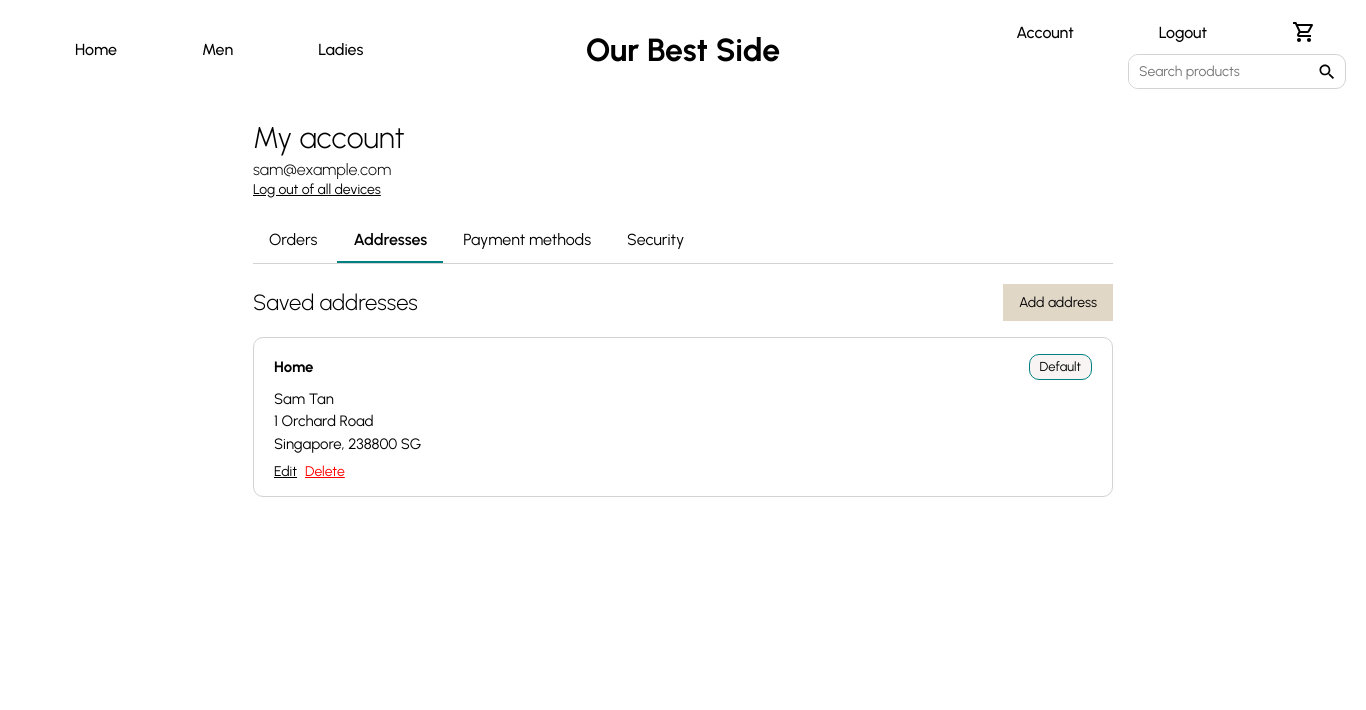
it: Account page › lists saved addresses and adds a new one
Expected: the text "Home" in the row of "Default" is shown, top-left (274, 358), bottom-right (314, 376)
Expected: the text "Default" is shown, top-left (1029, 354), bottom-right (1092, 380)
Click the button "Add address" at (1058,302), box top-left (1003, 284), bottom-right (1113, 321)
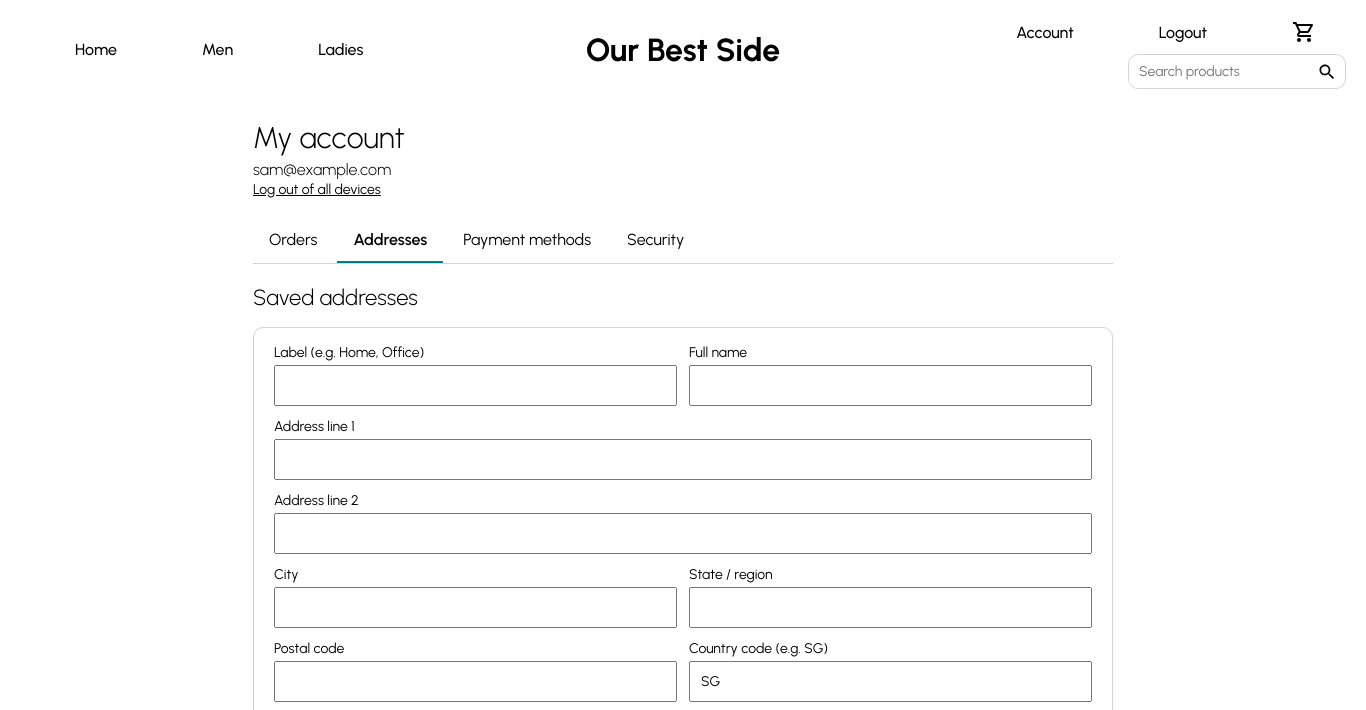
Type "Office" into the field labelled "Label (e.g. Home, Office)" at (476,386), box top-left (274, 365), bottom-right (677, 406)
Type "Sam Tan" into the field labelled "Full name" at (890,386), box top-left (689, 365), bottom-right (1092, 406)
Type "10 Anson Road" into the field labelled "Address line 1" at (683,460), box top-left (274, 439), bottom-right (1092, 480)
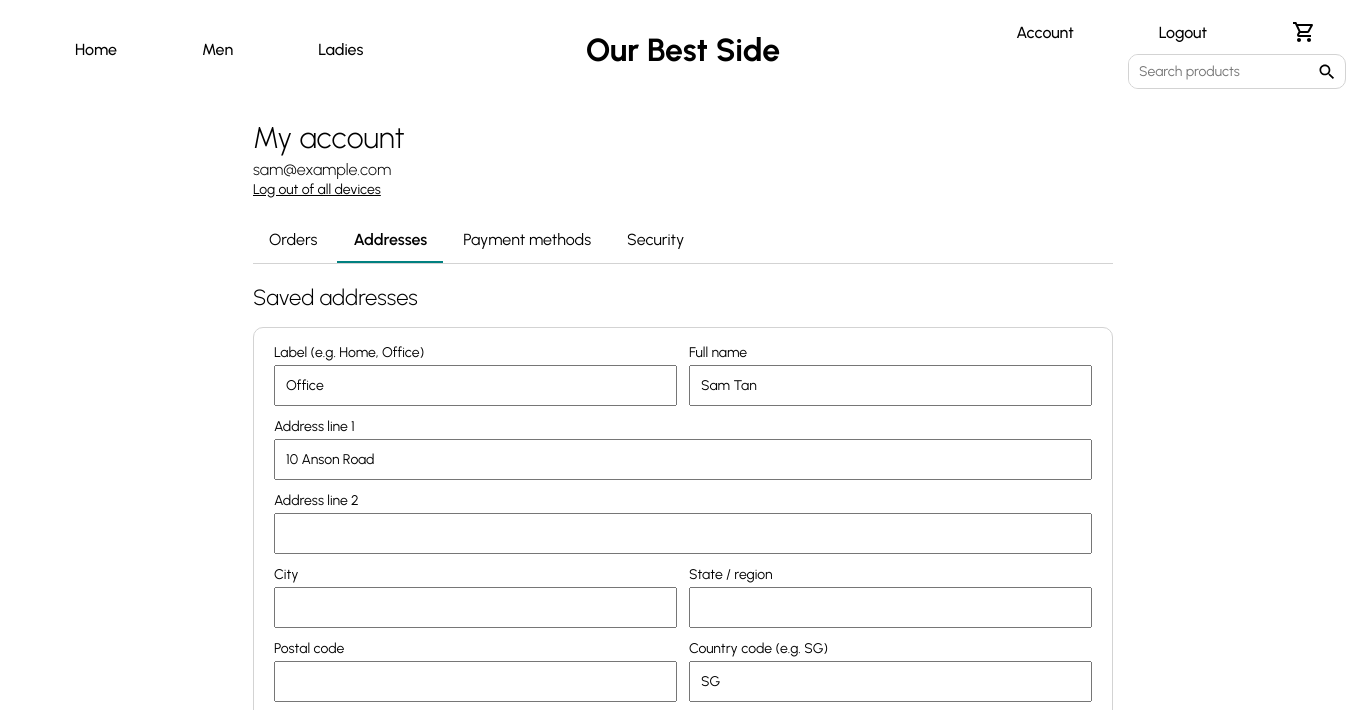
Type "Singapore" into the field labelled "City" at (476,608), box top-left (274, 587), bottom-right (677, 628)
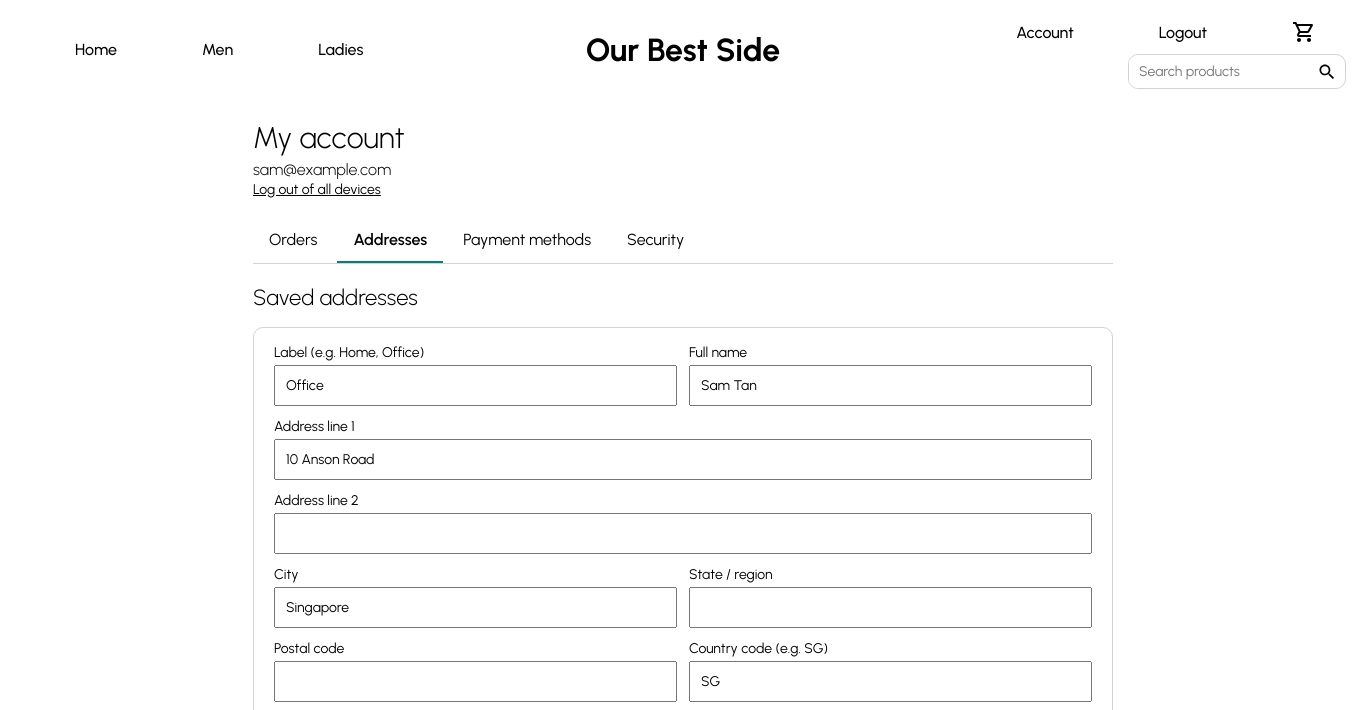
Type "079903" into the field labelled "Postal code" at (476,682), box top-left (274, 661), bottom-right (677, 702)
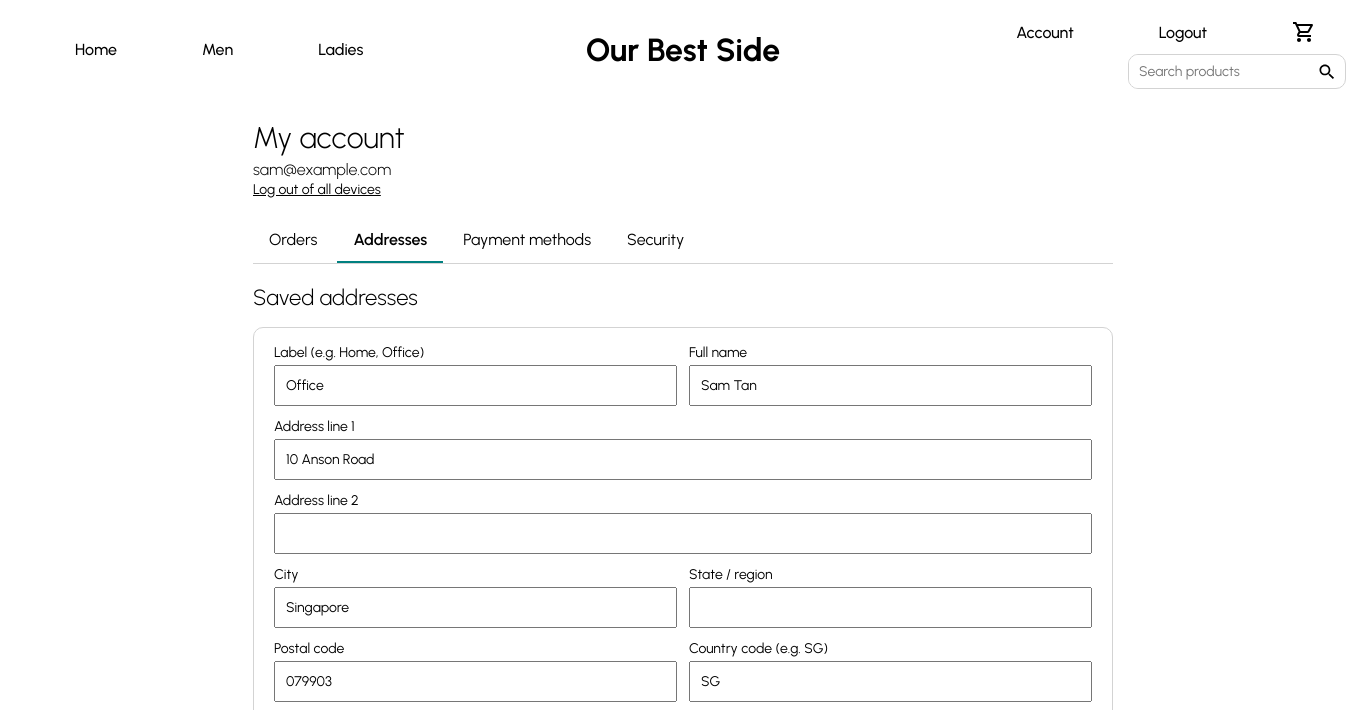
Replace the text in the field labelled "Country code (e.g. SG)" with "sg" at (890,682), box top-left (689, 661), bottom-right (1092, 702)
(page scrolled)
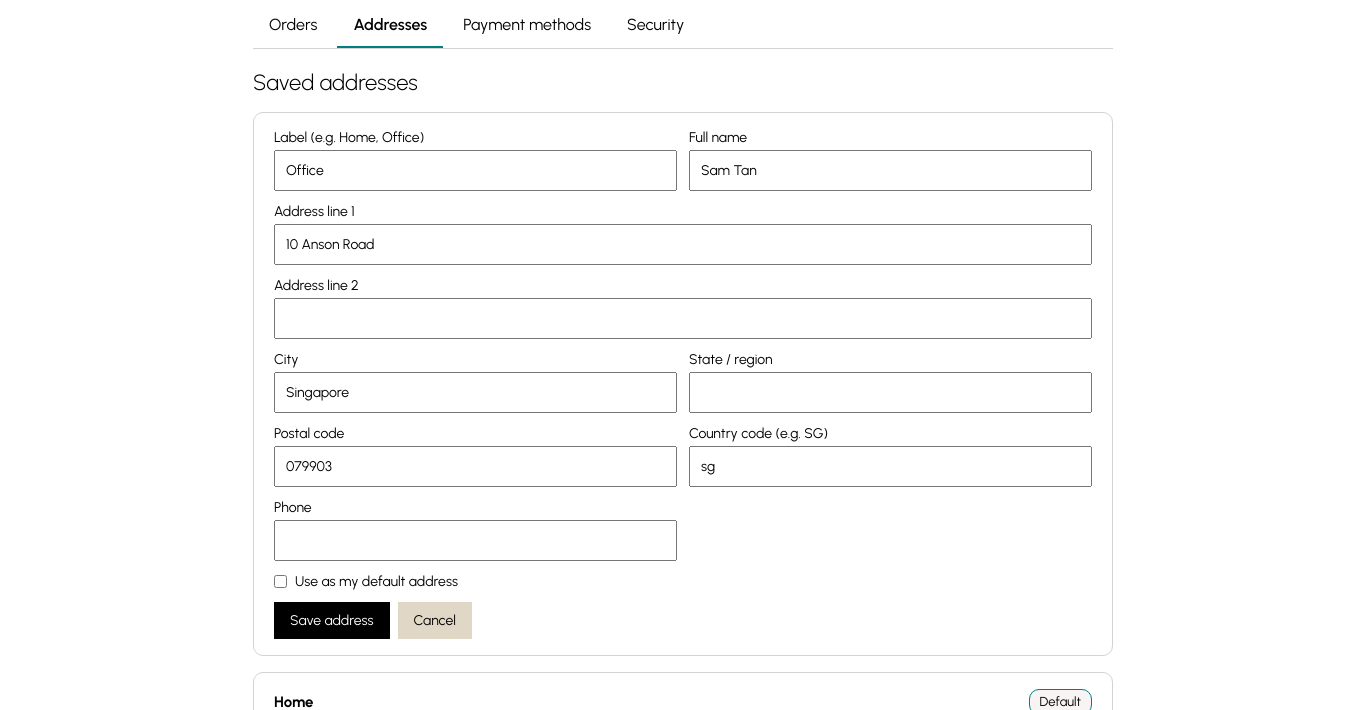
Submit the form named "Address form", box top-left (253, 112), bottom-right (1113, 656)
(page scrolled)
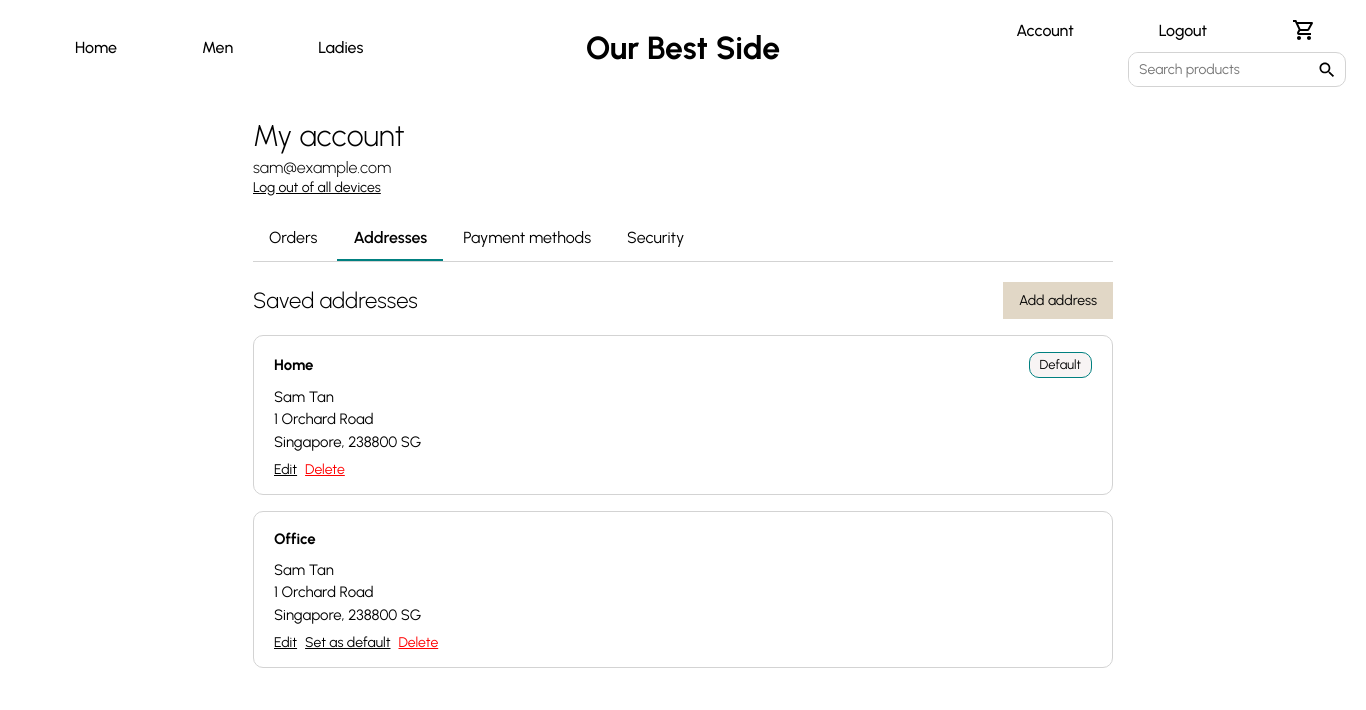
Expected: the number of elements with test id "address" is 2, top-left (253, 335), bottom-right (1113, 495); top-left (253, 511), bottom-right (1113, 668)
